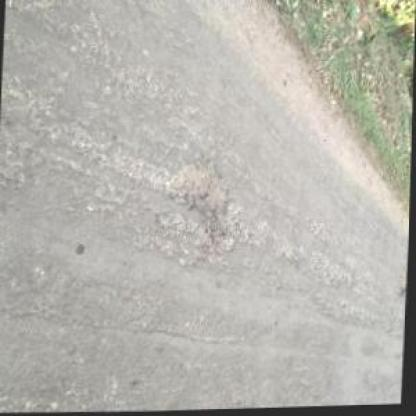pothole: (164, 160, 232, 224)
